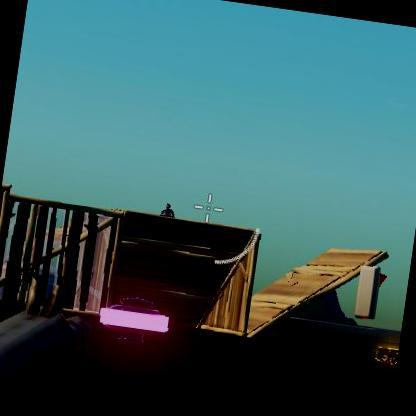person: (154, 196, 175, 219)
